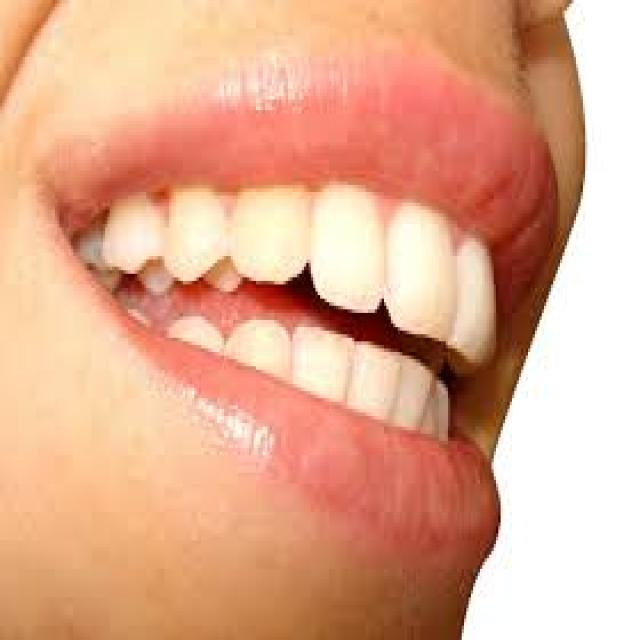tooth: (309, 182, 384, 310), (386, 203, 453, 345), (231, 192, 308, 284), (165, 192, 226, 281), (453, 235, 496, 359), (292, 324, 350, 406), (103, 199, 160, 270), (354, 342, 396, 431), (396, 352, 434, 437), (233, 324, 288, 381), (172, 316, 226, 362), (432, 374, 457, 444)
